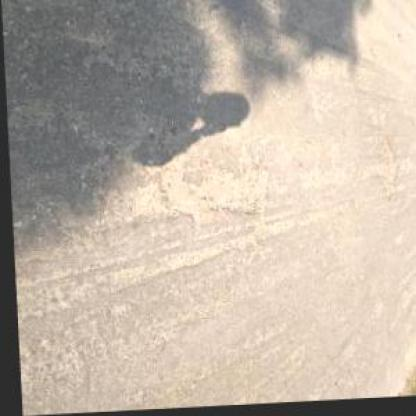pothole: (125, 150, 270, 229), (373, 141, 397, 204)
